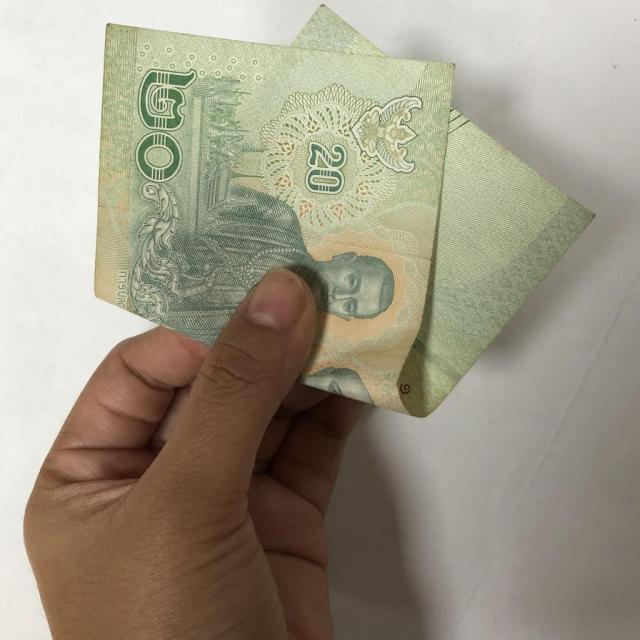THAI20: (92, 4, 597, 421)
